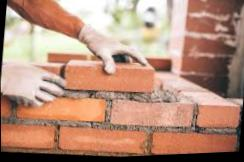brick: (62, 60, 154, 98), (55, 121, 147, 158), (16, 90, 105, 126), (109, 96, 195, 133), (151, 129, 236, 155), (1, 119, 57, 151), (195, 102, 241, 131), (1, 93, 11, 116)
